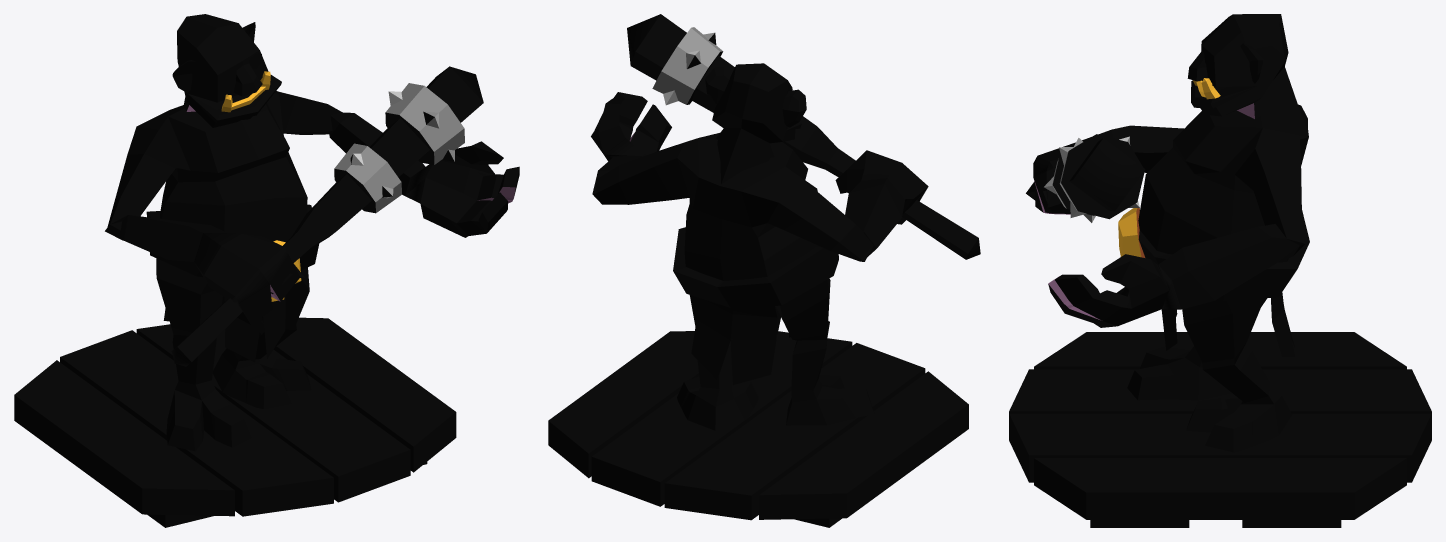
File: Troll_fe5acc77.glb
The picture shows the model from 3 angles, left to right: view 1: azimuth 30°, elevation 25°; view 2: azimuth 150°, elevation 25°; view 3: azimuth 270°, elevation 25°; orthographic projection. The views are drawn at different scales.
Parts seen in each view (by area): view 1: unnamed; view 2: unnamed; view 3: unnamed.
Part boxes in pixels (x1,y1,x2,y2): unnamed: (14,14,519,527); unnamed: (548,14,980,527); unnamed: (1009,14,1431,527).
Size of the model in its own units: 4.34 by 4.59 by 3.98.
Materials: 1 (1 with a texture image).
